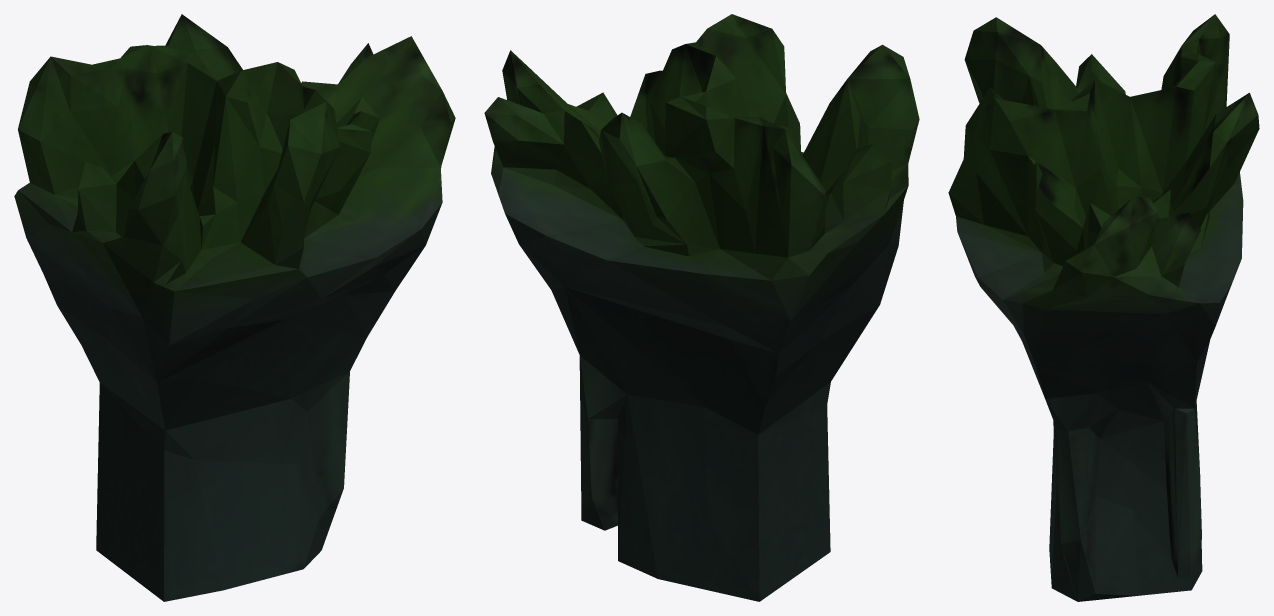
The picture shows the model from 3 angles, left to right: view 1: azimuth 30°, elevation 25°; view 2: azimuth 150°, elevation 25°; view 3: azimuth 270°, elevation 25°; orthographic projection.
Visible parts, largest first — view 1: geometry_0.006_Baked; view 2: geometry_0.006_Baked; view 3: geometry_0.006_Baked.
Part boxes in pixels (box(x1,y1,x2,y2)): geometry_0.006_Baked: box(14, 14, 455, 601); geometry_0.006_Baked: box(484, 14, 919, 601); geometry_0.006_Baked: box(948, 14, 1259, 601).
Size of the model in its own units: 11.57 by 14.54 by 8.28.
